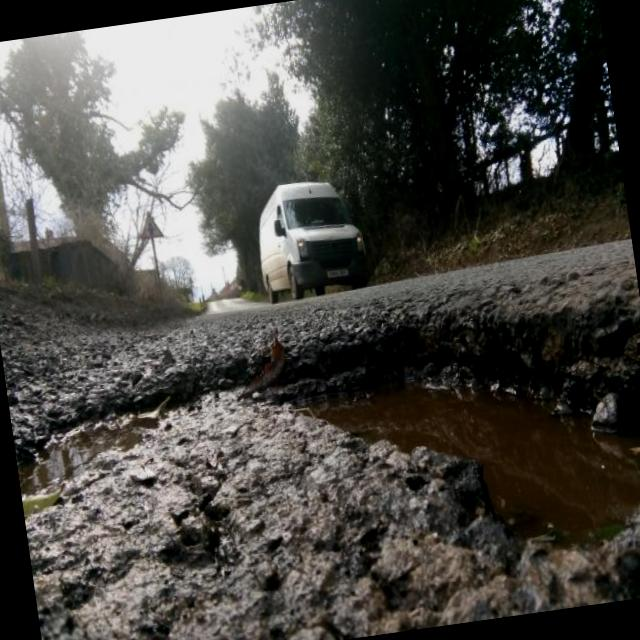bad-road: (5, 290, 640, 640)
